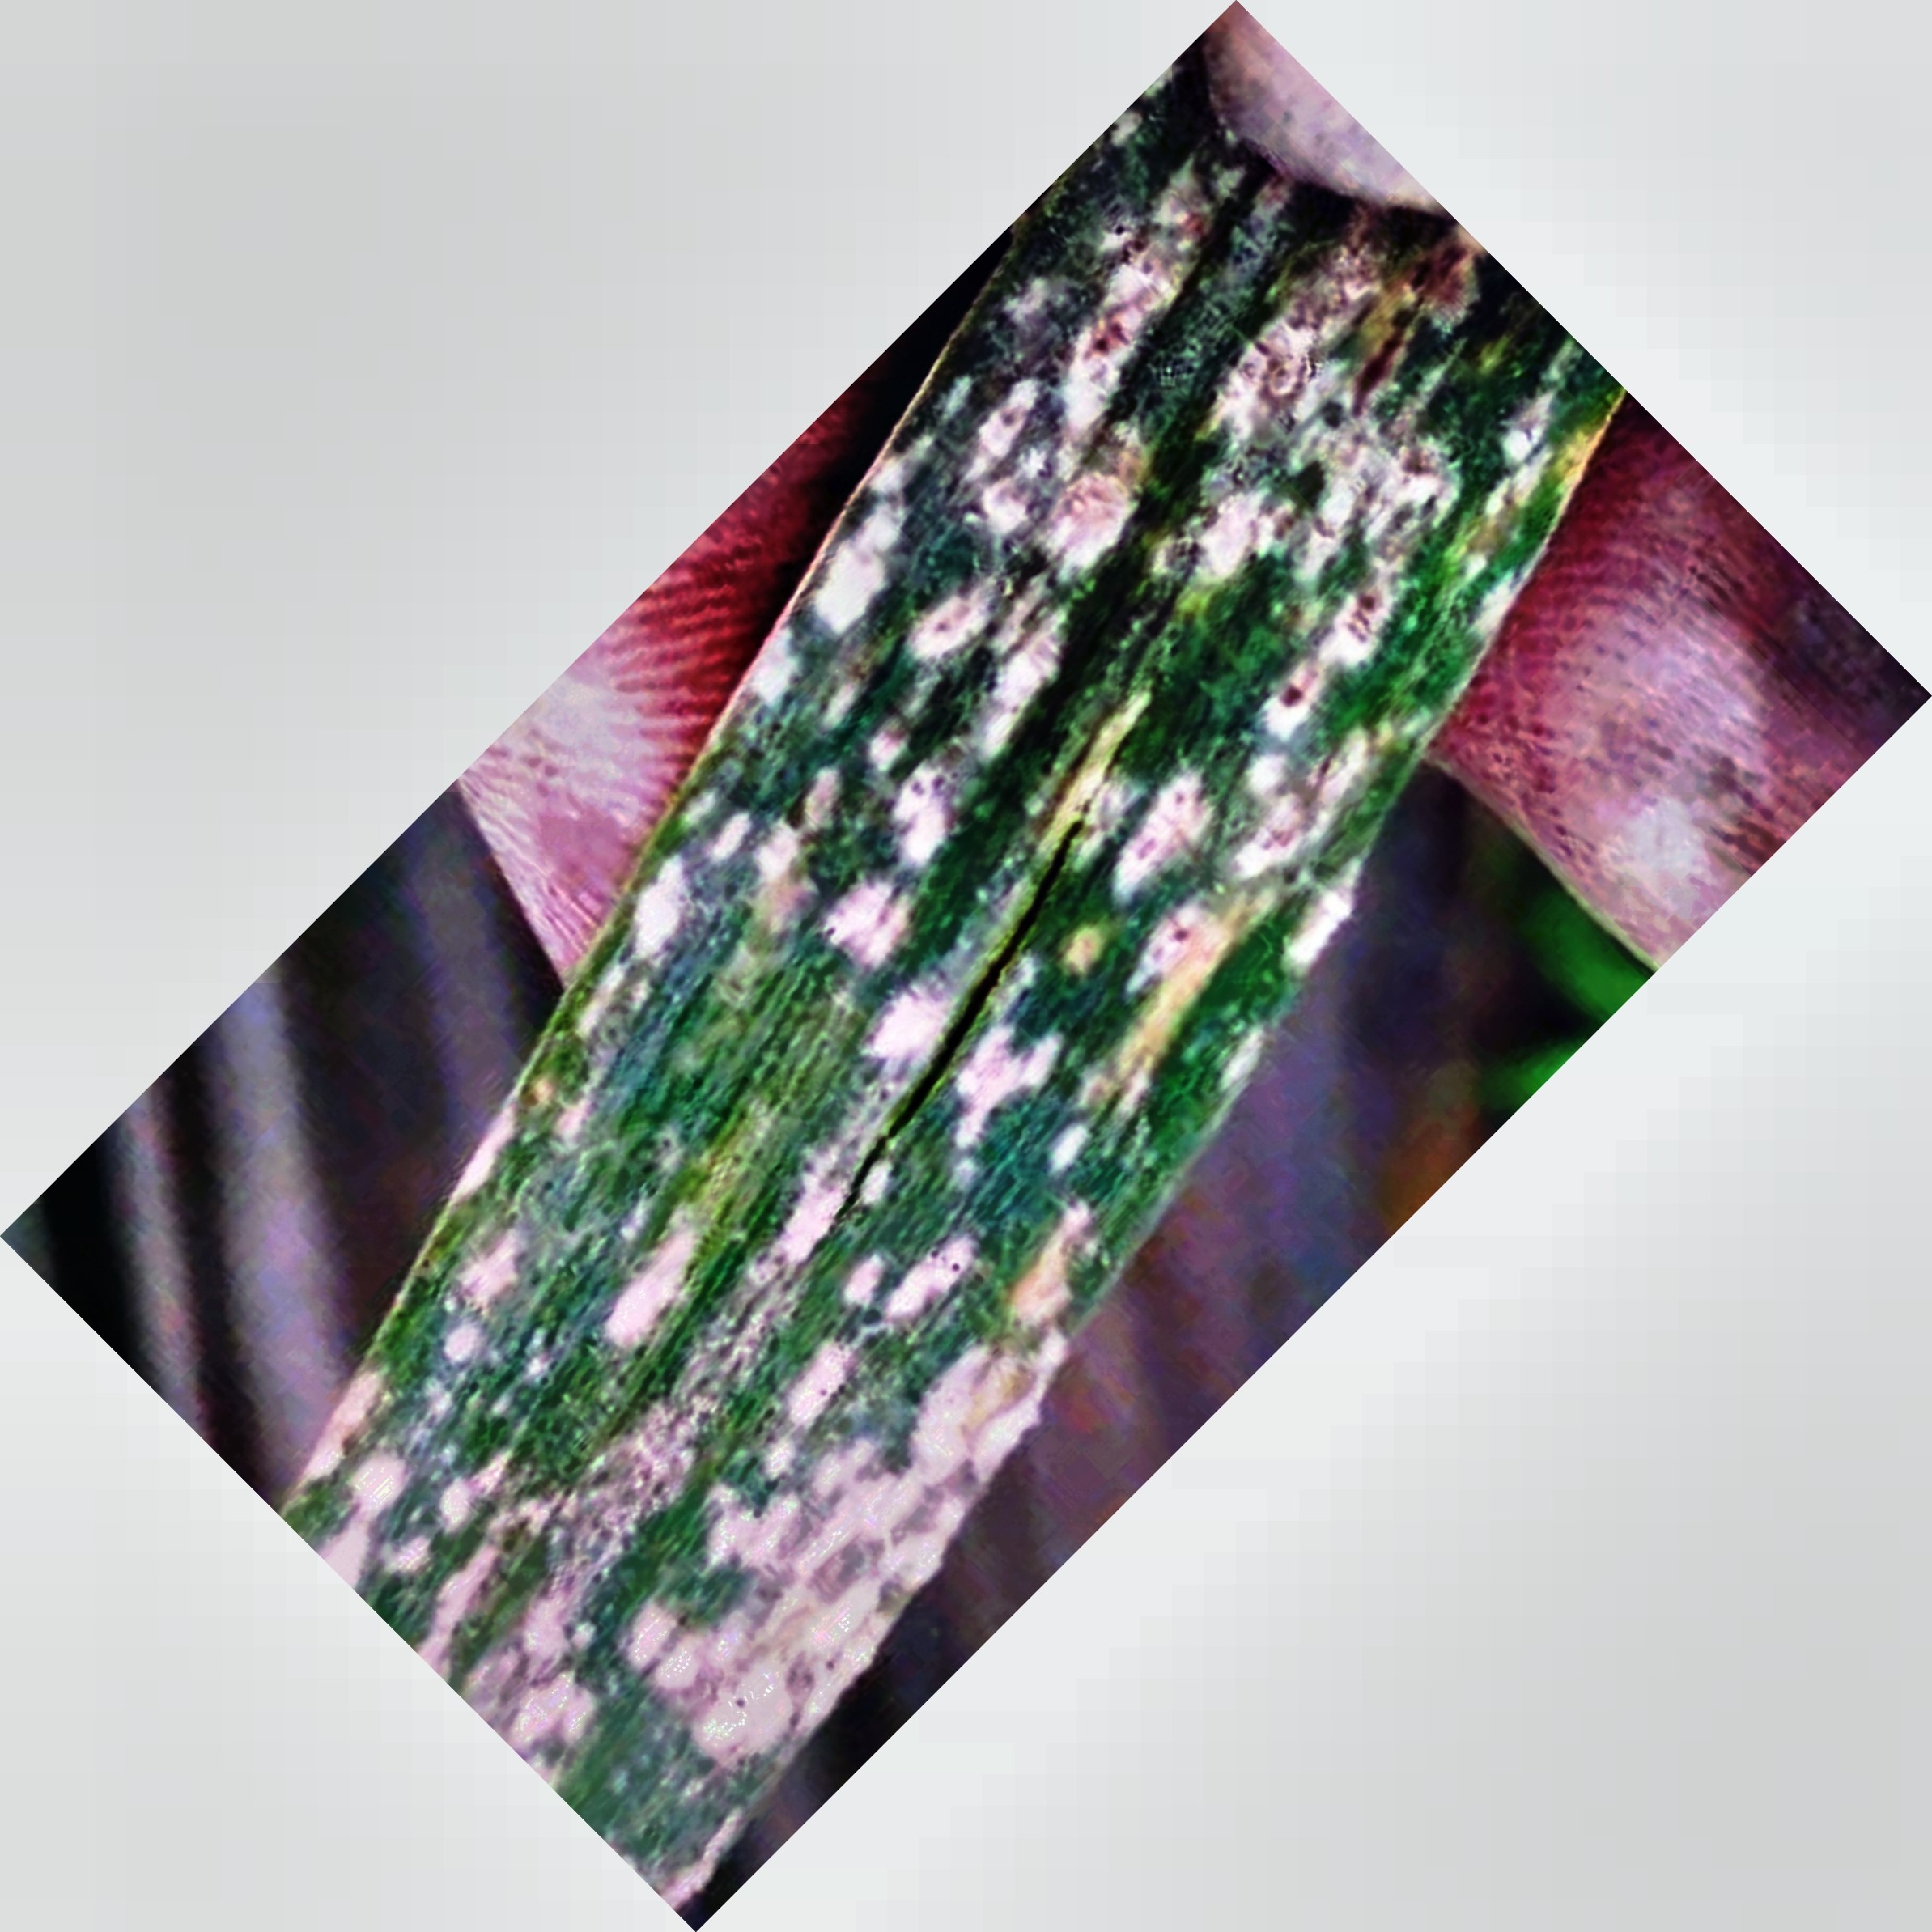Powdery Mildew: (432, 304, 1484, 1709)
